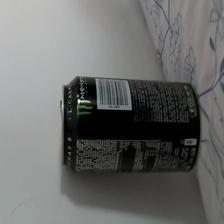Metal: (59, 75, 202, 174)
